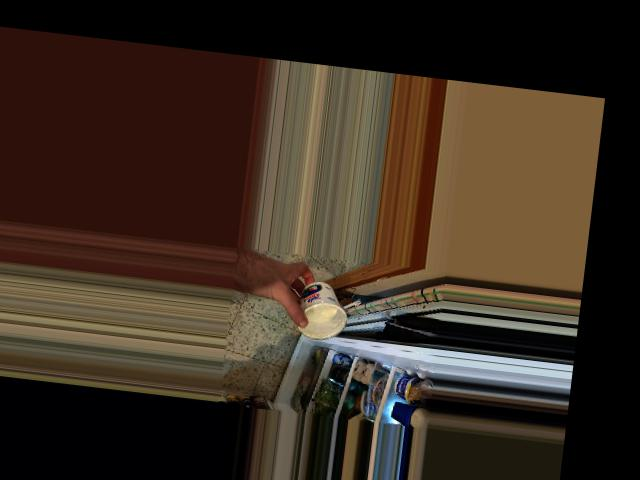cotage: (287, 281, 348, 343)
